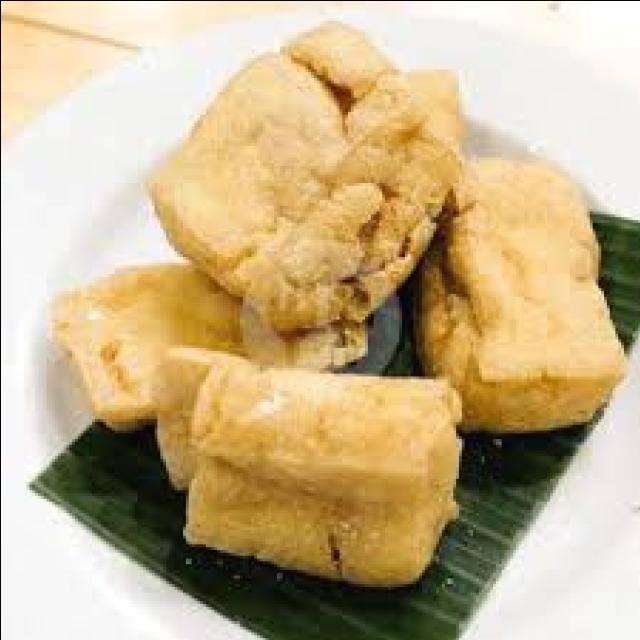tahu goreng: (148, 25, 488, 348), (160, 344, 481, 602), (425, 126, 640, 446)
